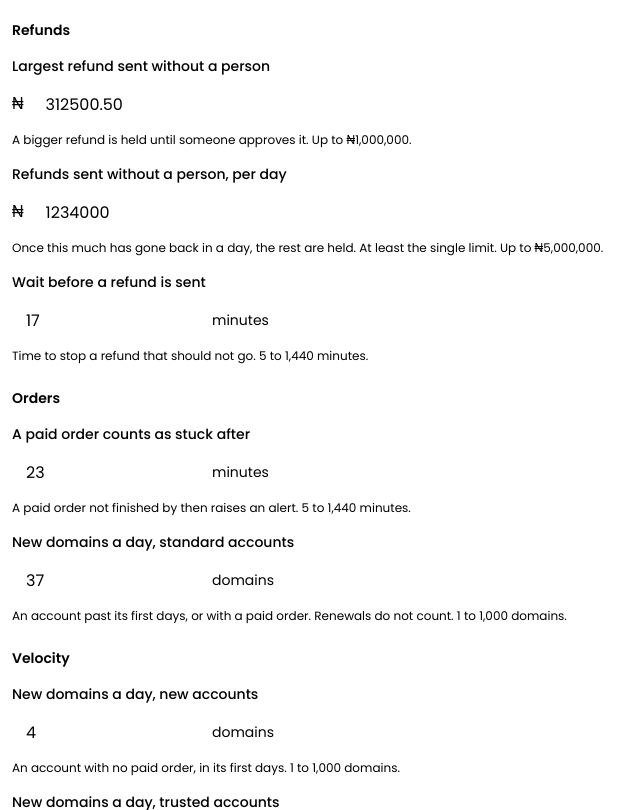
Test: the limits form › shows each limit with its bounds, and refuses a value outside them beside the field
The image size is (631, 810).
Replace the text in the field labelled "Largest refund sent without a person" with "2000000" at (128, 104), box [32,82,224,126]
(page scrolled)
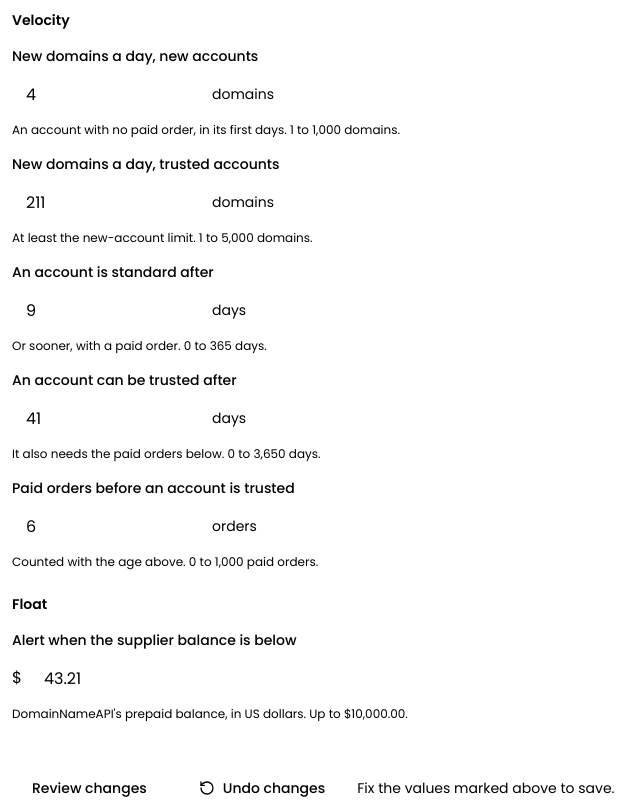
Expected: the button "Review changes" is disabled, [12,766,167,809]
Expected: the message reads "Fix the values marked above to save.", [357,778,614,798]
Click the button "Undo changes" at (262, 788), box [179,766,345,809]
(page scrolled)
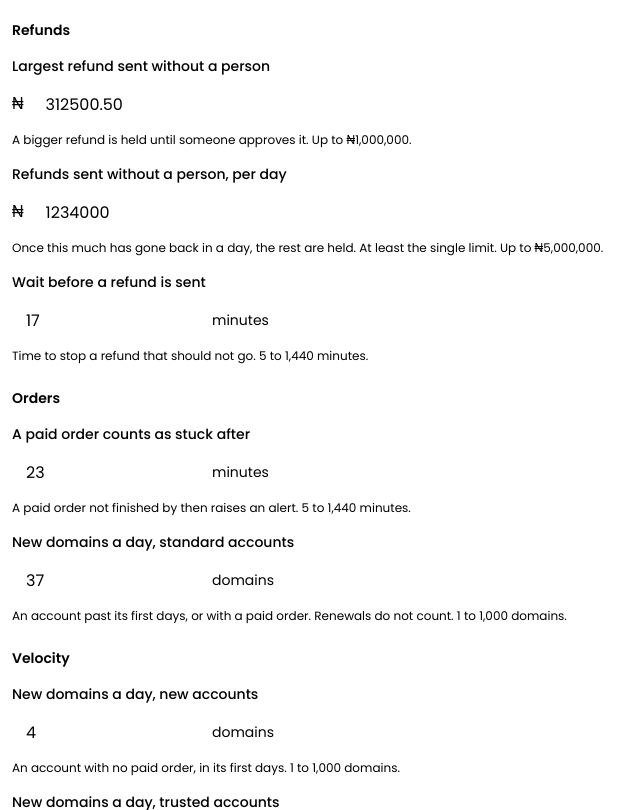
Expected: the field labelled "Largest refund sent without a person" holds "312500.50", [32,82,224,126]
